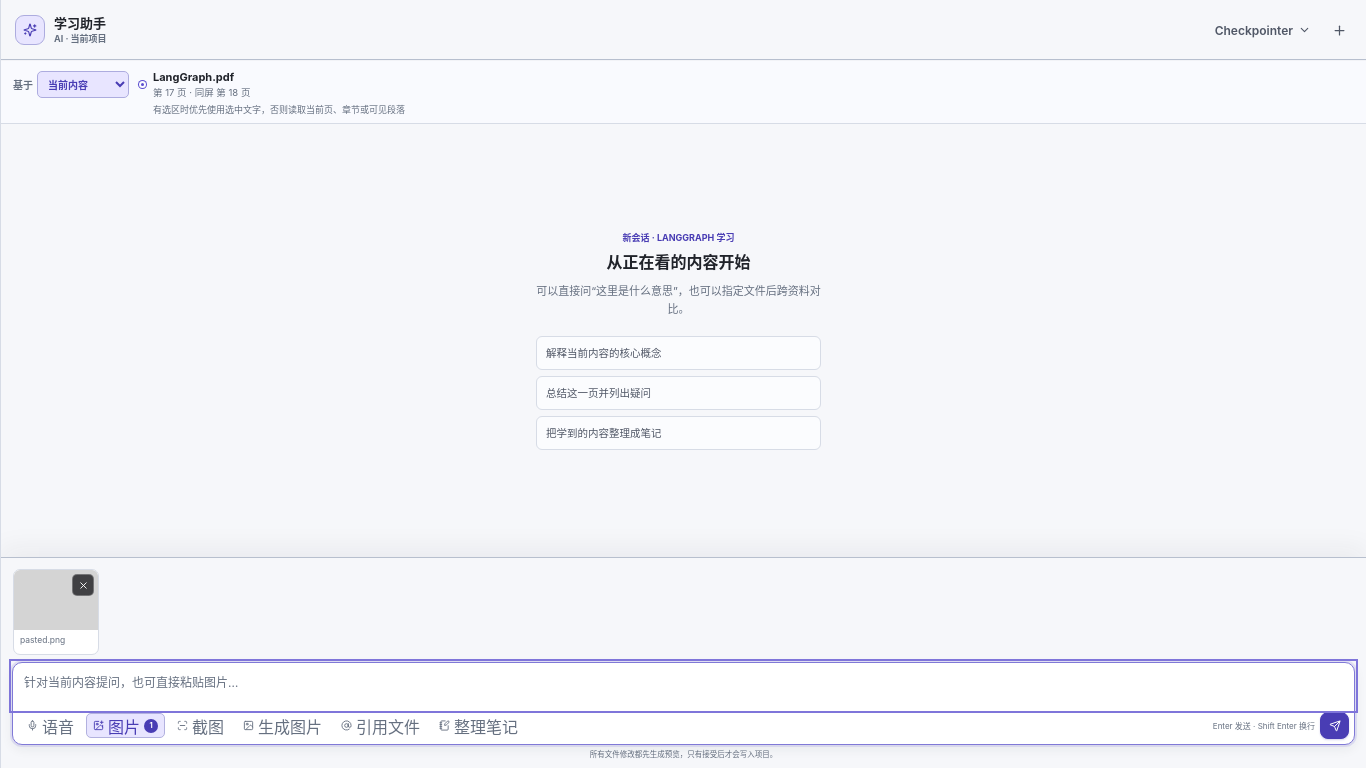
Test: AiWorkspace › accepts pasted images and lets the user remove them before sending
This screenshot has width=1366, height=768.
Click the button named "移除图片：pasted.png".
click(83, 585)  # box top-left (72, 574), bottom-right (94, 596)
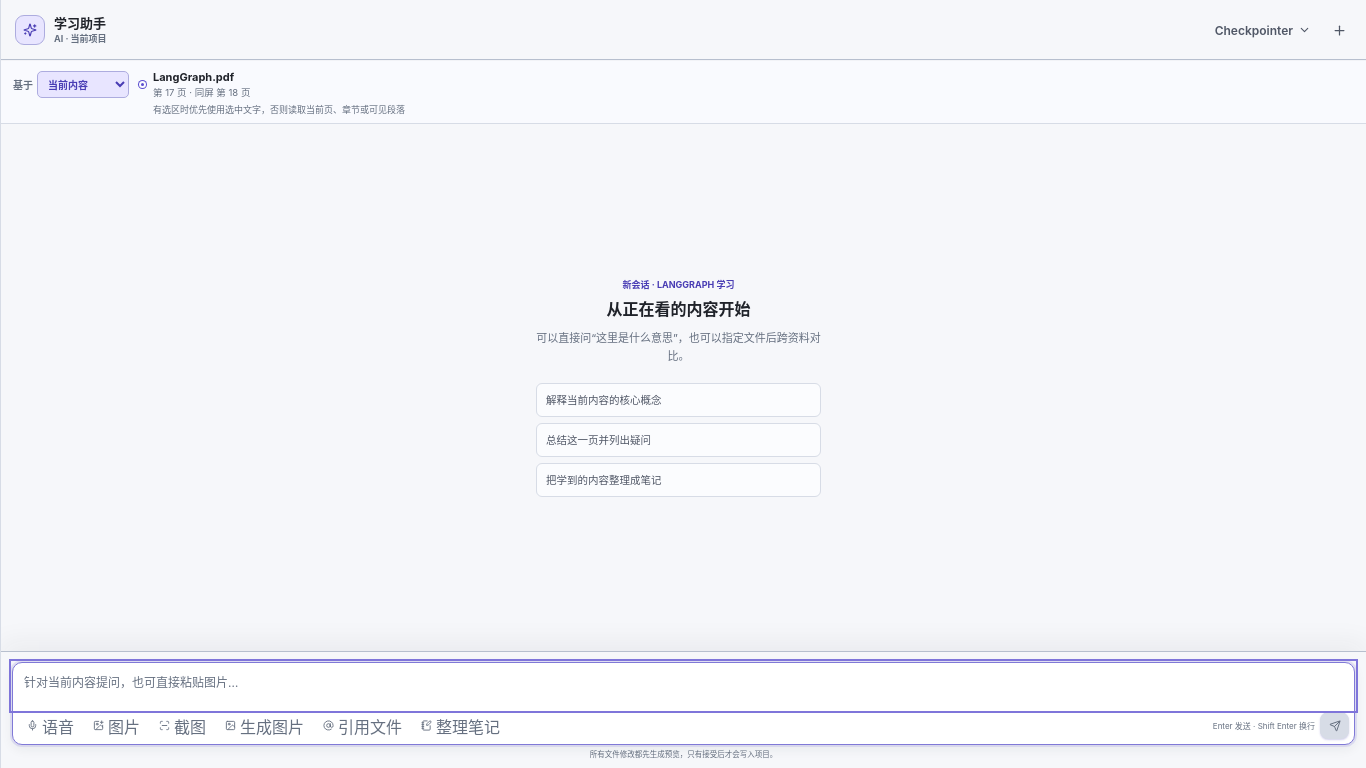
Now the text "pasted.png" is gone
Now the button named "发送消息" is disabled, box top-left (1320, 712), bottom-right (1349, 739)
